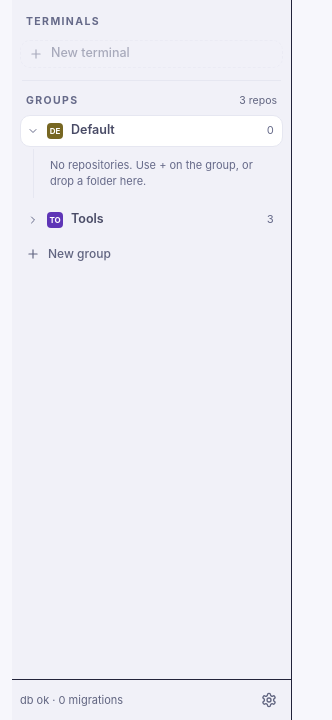
Test case: Group context menu — Remove N missing (#317) › shows a count-labelled entry when the group has missing rows
Right-click the button "Tools" at coordinates (165, 220), box [71,210,259,229]
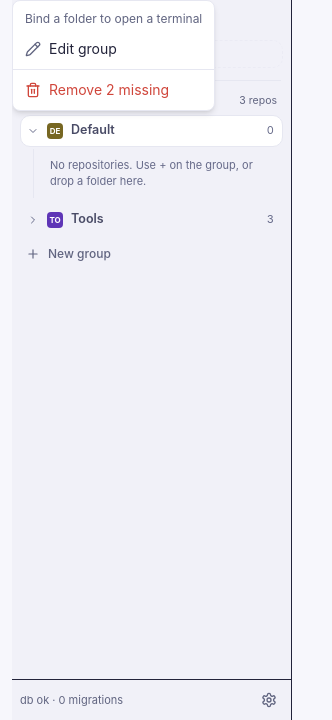
Expected: the menu item "Remove 2 missing" is shown, [13,74,214,106]
